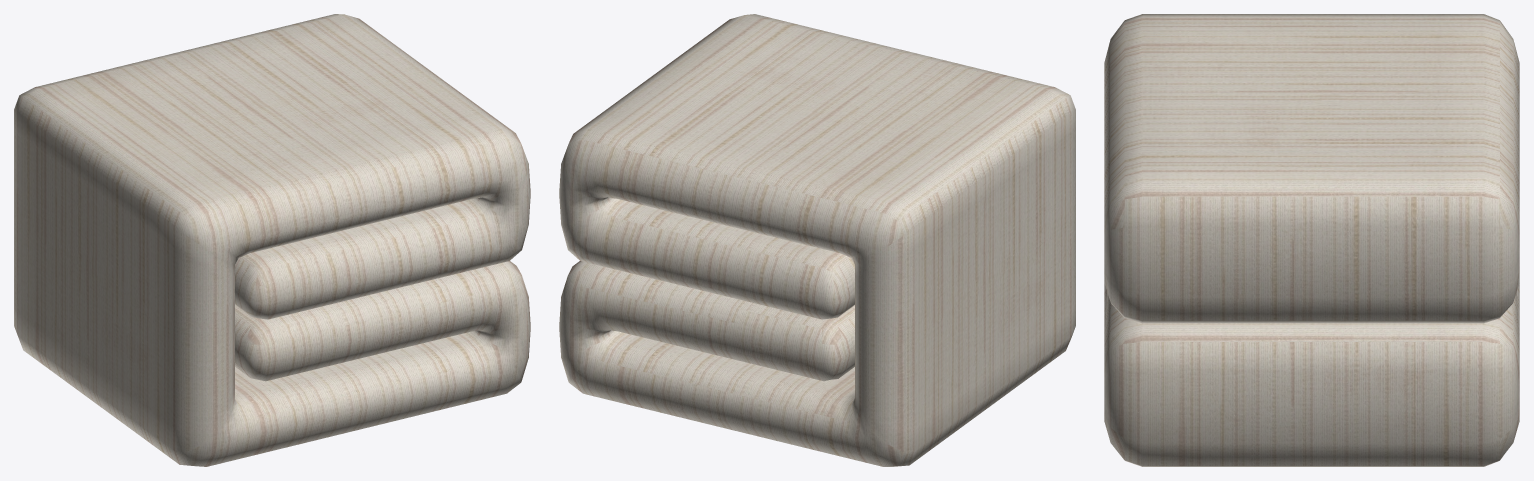
File: mianbei.FBX
3 views of the same model, side by side, from view 1: azimuth 30°, elevation 25°; view 2: azimuth 150°, elevation 25°; view 3: azimuth 270°, elevation 25° (orthographic). The views are drawn at different scales.
Visible parts, largest first — view 1: Box040; view 2: Box040; view 3: Box040.
Part boxes in pixels (box(x1,y1,x2,y2)): Box040: box(14, 14, 530, 466); Box040: box(559, 14, 1075, 466); Box040: box(1104, 14, 1519, 466).
Bounding box in the file's own units: 78.02 × 55.78 × 73.21.
1 material, 1 textured.
